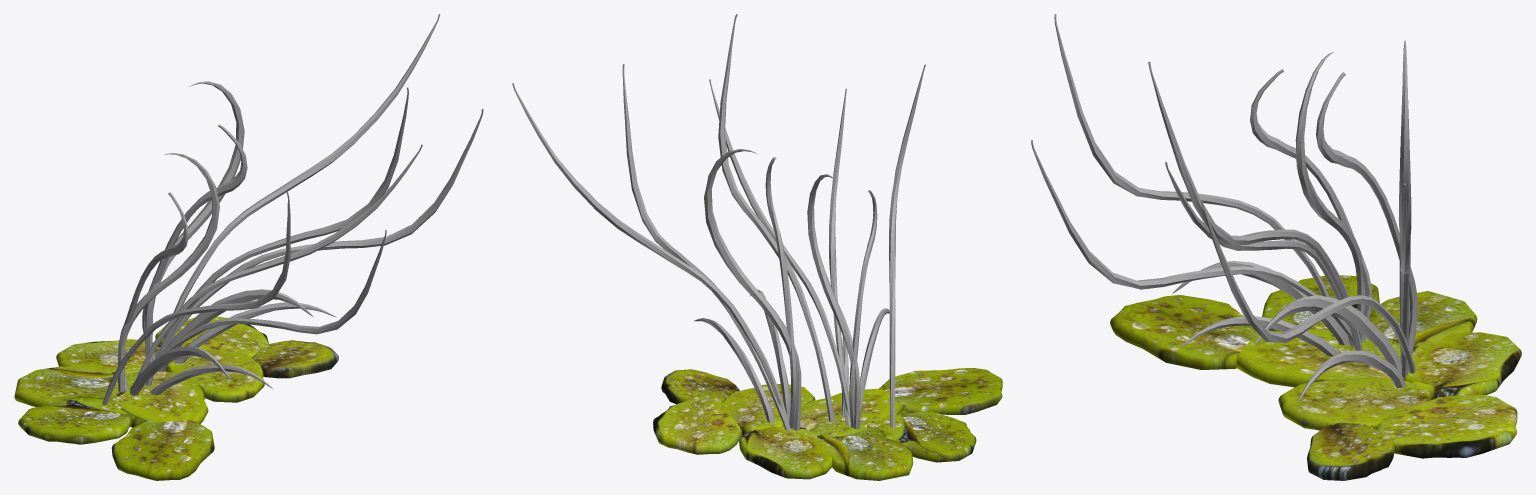
Rendered from giantWaterCress.fbx.
3 views of the same model, side by side, from view 1: azimuth 30°, elevation 25°; view 2: azimuth 150°, elevation 25°; view 3: azimuth 270°, elevation 25° (orthographic). The views are drawn at different scales.
Visible parts, largest first — view 1: Lilypad, pCylinder4 (×2), pCylinder11 (×2), pCylinder12 (×2), pCylinder9 (×2), pCylinder7 (×2), pCylinder10 (×2), pCylinder5 (×2); view 2: Lilypad, pCylinder11 (×2), pCylinder4 (×2), pCylinder9 (×2), pCylinder12 (×2), pCylinder7 (×2), pCylinder10 (×2), pCylinder5; view 3: Lilypad, pCylinder11 (×2), pCylinder12 (×2), pCylinder7 (×2), pCylinder9 (×2), pCylinder10 (×2), pCylinder4 (×2), pCylinder5 (×2).
Boxes of the visible parts, left/top/right/bottom form: Lilypad: left=14, top=316, right=338, bottom=480; pCylinder4 (×2): left=135, top=14, right=440, bottom=380; pCylinder11 (×2): left=102, top=87, right=408, bottom=405; pCylinder12 (×2): left=129, top=108, right=483, bottom=389; pCylinder9 (×2): left=118, top=81, right=244, bottom=392; pCylinder7 (×2): left=123, top=124, right=247, bottom=391; pCylinder10 (×2): left=130, top=289, right=313, bottom=395; pCylinder5 (×2): left=150, top=302, right=336, bottom=394; Lilypad: left=653, top=368, right=1002, bottom=480; pCylinder11 (×2): left=718, top=14, right=925, bottom=428; pCylinder4 (×2): left=512, top=79, right=850, bottom=424; pCylinder9 (×2): left=704, top=149, right=860, bottom=430; pCylinder12 (×2): left=622, top=64, right=850, bottom=430; pCylinder7 (×2): left=765, top=157, right=877, bottom=428; pCylinder10 (×2): left=750, top=289, right=889, bottom=423; pCylinder5: left=694, top=318, right=775, bottom=423; Lilypad: left=1110, top=275, right=1521, bottom=480; pCylinder11 (×2): left=1054, top=14, right=1362, bottom=350; pCylinder12 (×2): left=1031, top=140, right=1415, bottom=373; pCylinder7 (×2): left=1250, top=69, right=1417, bottom=355; pCylinder9 (×2): left=1295, top=40, right=1411, bottom=363; pCylinder10 (×2): left=1172, top=261, right=1401, bottom=374; pCylinder4 (×2): left=1165, top=161, right=1410, bottom=377; pCylinder5 (×2): left=1179, top=316, right=1405, bottom=402.
Size of the model in its own units: 25.56 by 18.11 by 18.88.
Materials: 2 (1 with a texture image).
